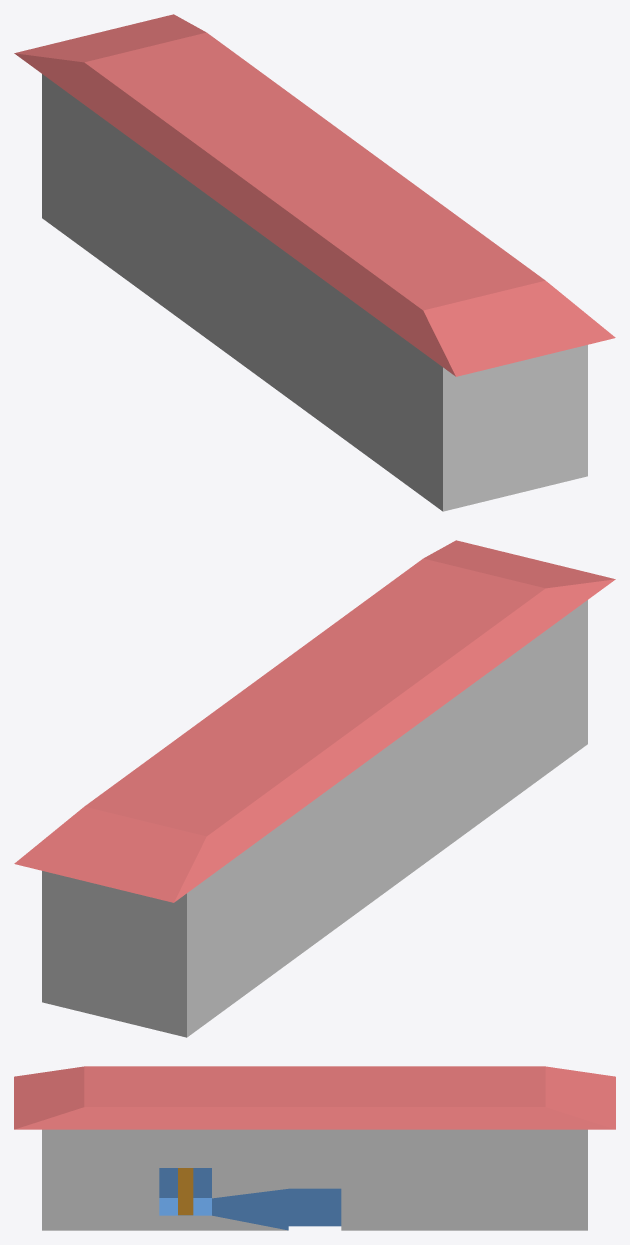
File: home.glb
3 renders of one model, top to bottom at view 1: azimuth 30°, elevation 25°; view 2: azimuth 150°, elevation 25°; view 3: azimuth 270°, elevation 25°, orthographic. The views are drawn at different scales.
Visible parts, largest first — view 1: Cube; view 2: Cube; view 3: Cube, Cube.001.
Boxes of the visible parts, x1,y1,x2,y2 form: Cube: [14, 14, 615, 511]; Cube: [14, 540, 615, 1037]; Cube: [14, 1066, 615, 1230]; Cube.001: [178, 1168, 193, 1215].
Size of the model in its own units: 2.21 by 2.32 by 10.57.
